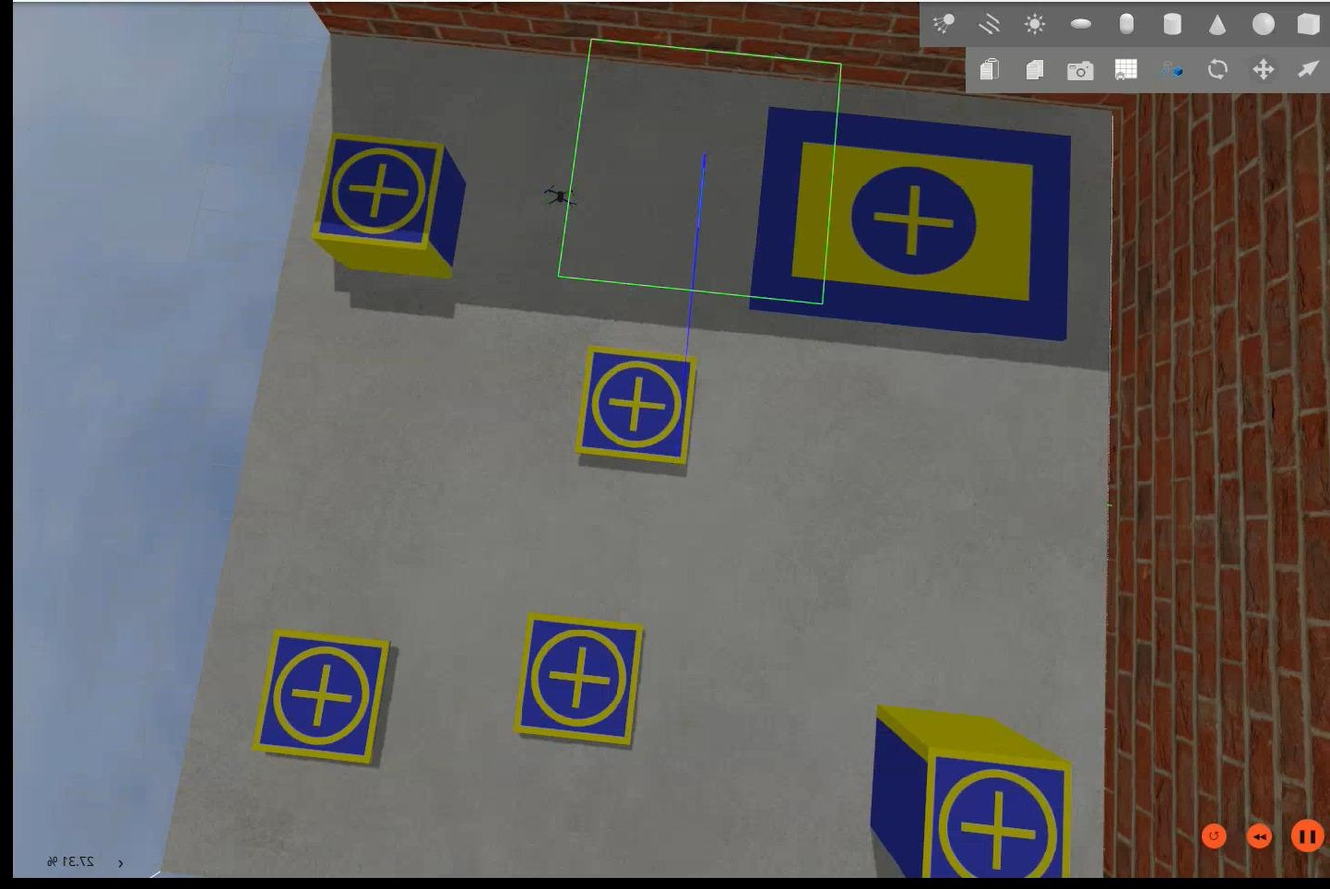large_base: (744, 104, 1068, 345)
small_base: (915, 742, 1074, 880), (247, 630, 391, 772), (508, 611, 648, 750), (573, 345, 699, 472), (311, 136, 446, 253)
